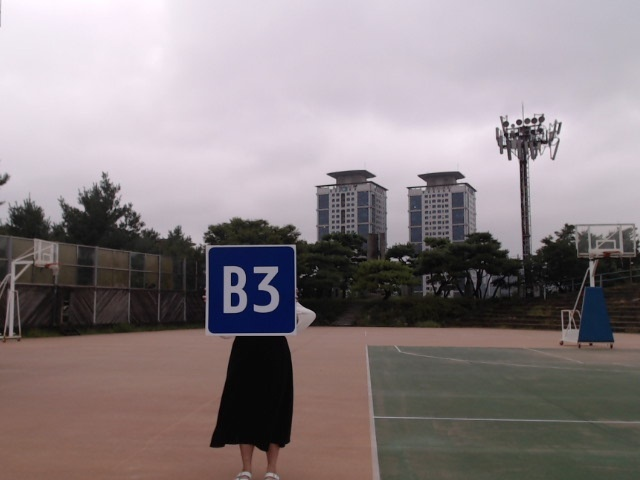delivery_b3: (205, 246, 297, 335)
